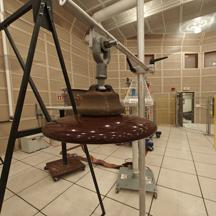insulator: (36, 79, 172, 150)
